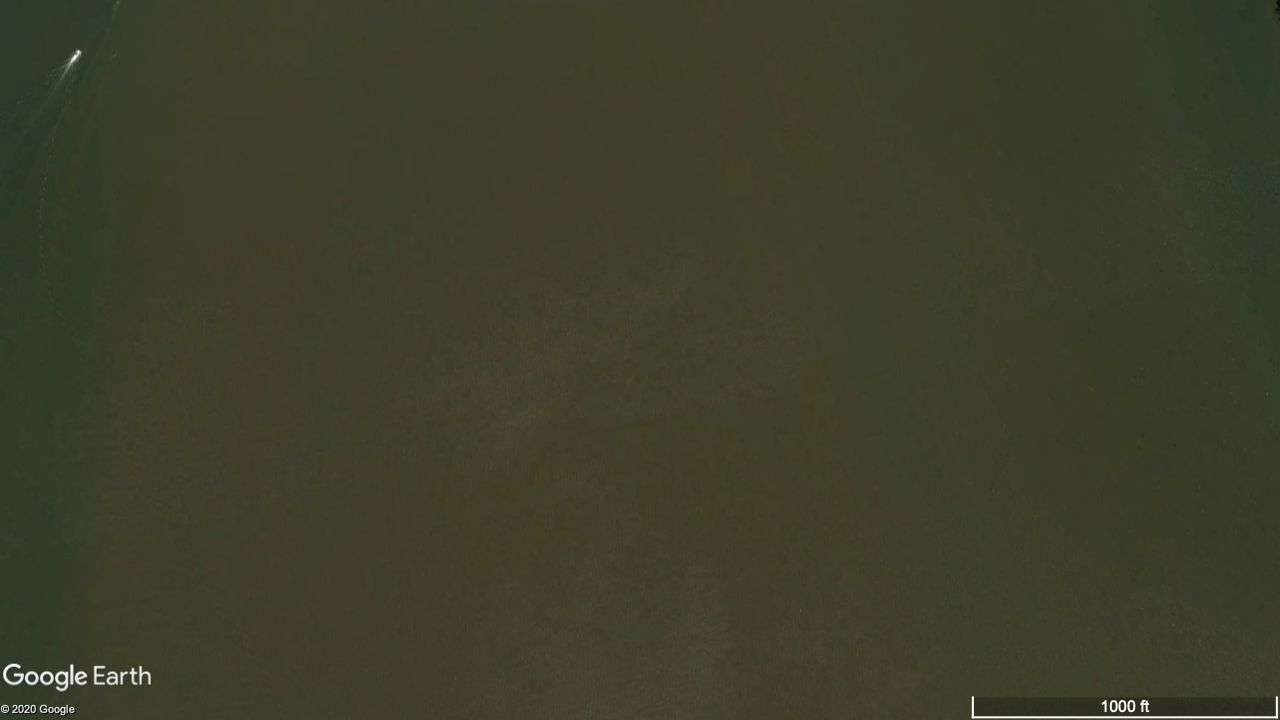satboat: (70, 48, 81, 63)
